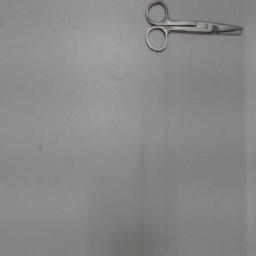Dressing Scissors: (140, 0, 250, 58)
